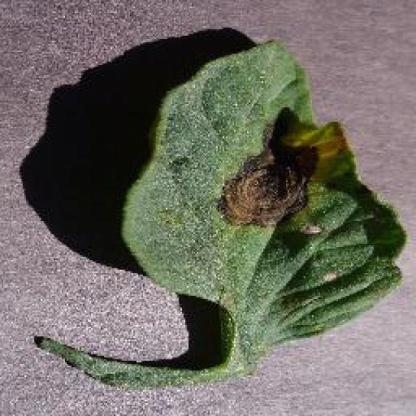Tomato_Blight: (121, 41, 406, 363)
